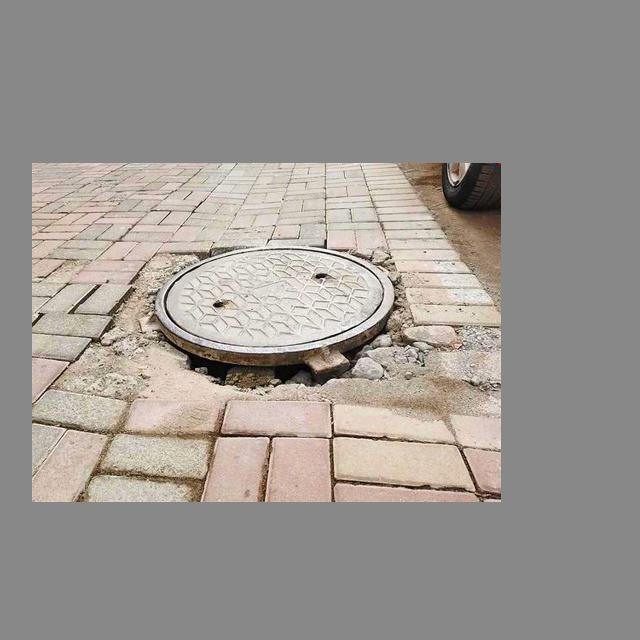circle: (61, 245, 457, 400)
